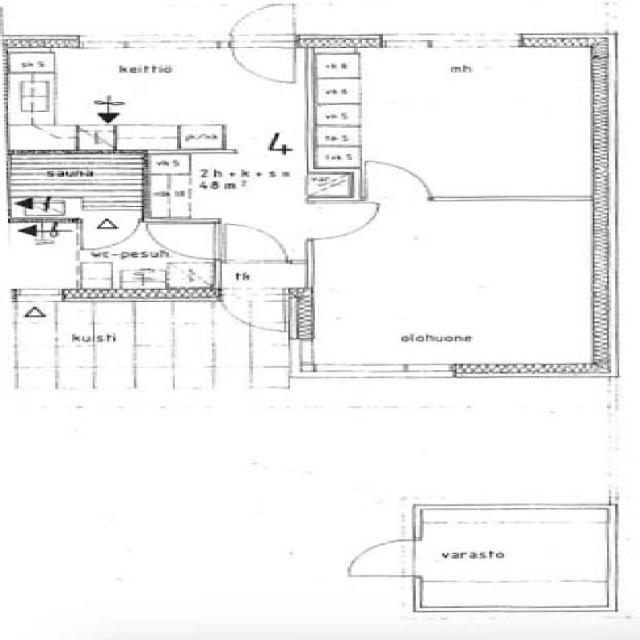door: (75, 222, 225, 294), (358, 158, 437, 204), (228, 2, 301, 50), (144, 220, 224, 262), (227, 40, 300, 86), (342, 537, 421, 579), (217, 222, 291, 265), (308, 199, 382, 241), (218, 291, 292, 333)
window: (427, 189, 592, 210), (311, 364, 453, 383), (108, 38, 227, 54), (392, 36, 528, 50), (285, 336, 321, 375)
zone: (307, 202, 602, 376), (317, 46, 607, 200), (15, 47, 311, 150), (415, 516, 612, 608), (76, 222, 222, 297), (5, 152, 150, 219), (4, 220, 82, 296), (218, 262, 309, 294)
